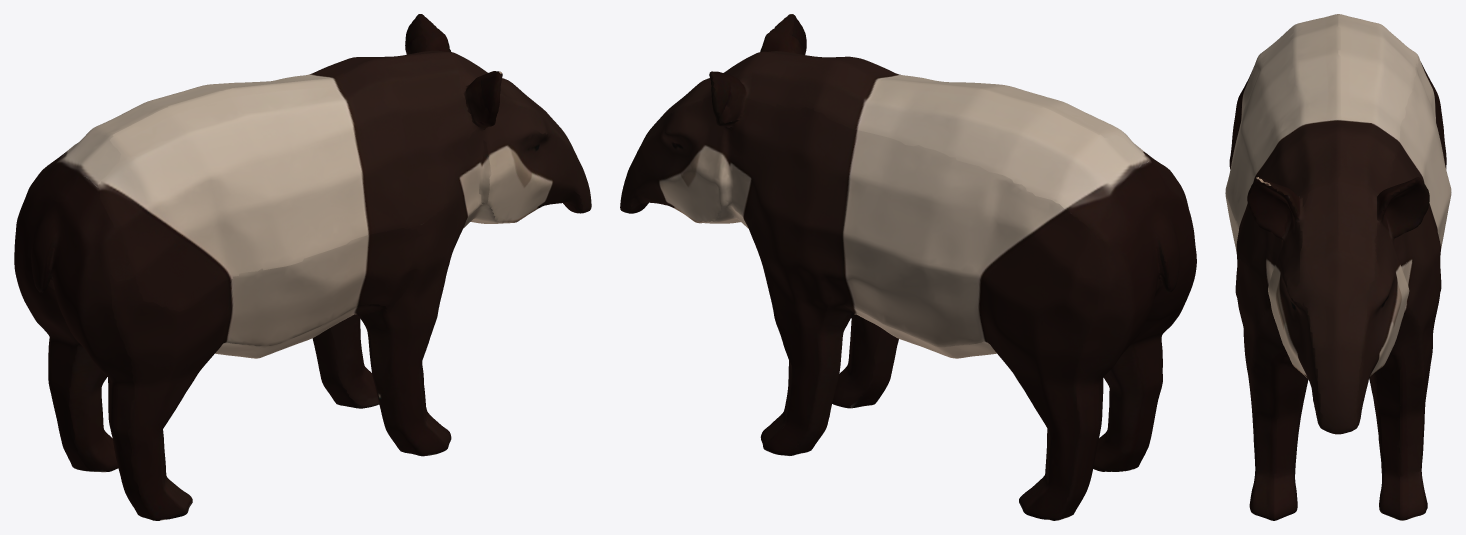
Rendered from tapir.glb.
The picture shows the model from 3 angles, left to right: view 1: azimuth 30°, elevation 25°; view 2: azimuth 150°, elevation 25°; view 3: azimuth 270°, elevation 25°; orthographic projection.
Visible parts, largest first — view 1: tmpwcqjl8ll.ply; view 2: tmpwcqjl8ll.ply; view 3: tmpwcqjl8ll.ply.
Part boxes in pixels (x1,y1,x2,y2): tmpwcqjl8ll.ply: (14,14,591,520); tmpwcqjl8ll.ply: (620,14,1196,520); tmpwcqjl8ll.ply: (1225,14,1451,520).
Bounding box in the file's own units: 1.96 × 1.27 × 0.6926.
1 material, 1 textured.
